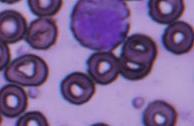B: (71, 0, 128, 51)
